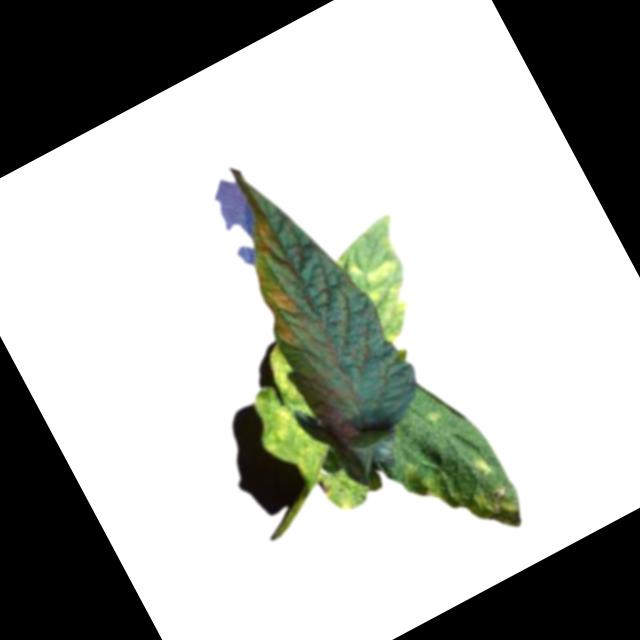Leaf_Mold: (226, 344, 345, 494), (405, 424, 533, 559), (338, 231, 434, 348), (253, 274, 314, 348), (243, 208, 289, 260)
